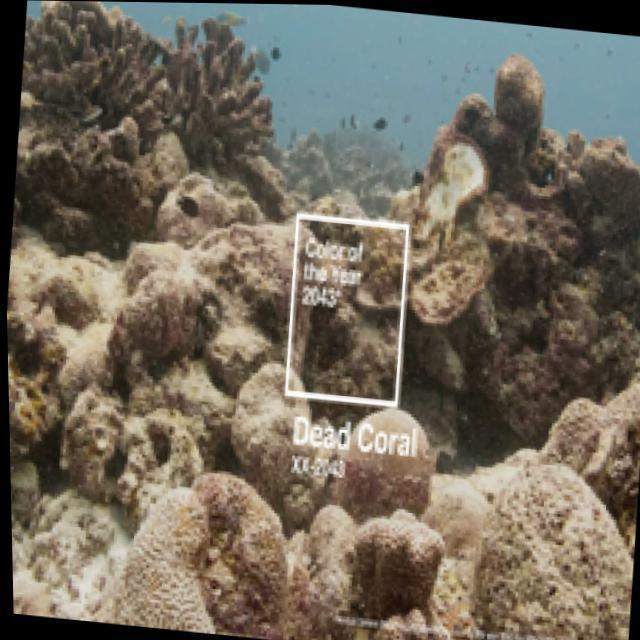Dead Coral: (401, 36, 640, 359), (27, 202, 250, 448), (35, 444, 308, 640), (455, 416, 640, 640), (8, 0, 176, 220)
